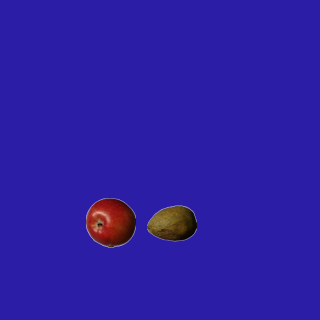Apple Braeburn: (85, 197, 135, 247)
Papaya: (146, 198, 196, 248)
